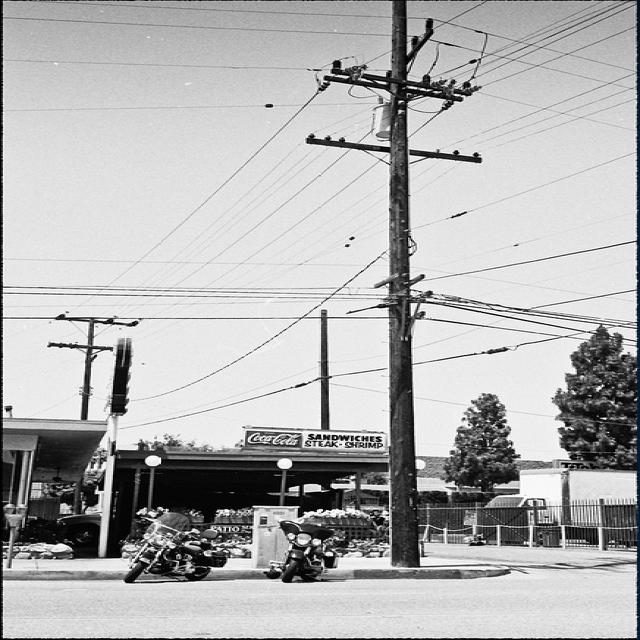motor: (124, 513, 228, 583), (268, 521, 340, 583)
